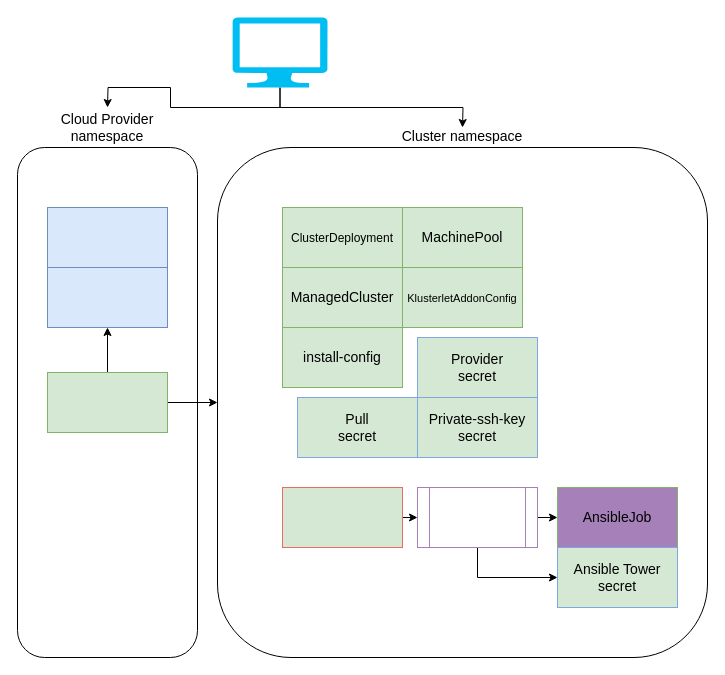
Some shapes in this 725 by 675 pixel diagram are drawn without their labels. The centre of each missing label's shape, as x and y in pixels:
Cloud Provider ClusterRole: the point at 107,297
Cloud Provider RoleBinding (namespace scoped): the point at 107,402
Cloud Provider Secret: the point at 107,237
Cluster Curator Controller: the point at 477,517
Job ConfigMap: the point at 342,517
User: the point at 279,52
